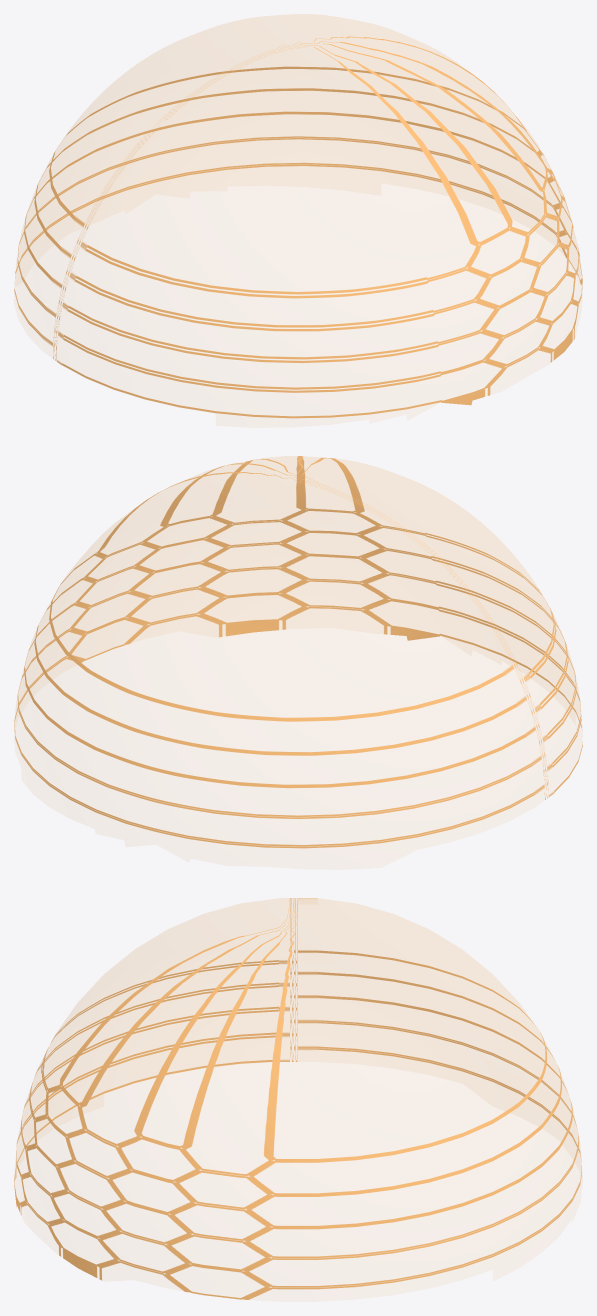
Rendered from fx_dome_arcana.glb.
3 views of the same model, one above another, from view 1: azimuth 30°, elevation 25°; view 2: azimuth 150°, elevation 25°; view 3: azimuth 270°, elevation 25° (orthographic).
Parts seen in each view (by area): view 1: fx_dome_arcana; view 2: fx_dome_arcana; view 3: fx_dome_arcana.
Boxes of the visible parts, x1,y1,x2,y2 form: fx_dome_arcana: [14, 14, 582, 418]; fx_dome_arcana: [14, 456, 582, 848]; fx_dome_arcana: [14, 898, 582, 1299].
Size of the model in its own units: 2 by 1.05 by 2.
1 material, 1 textured.
